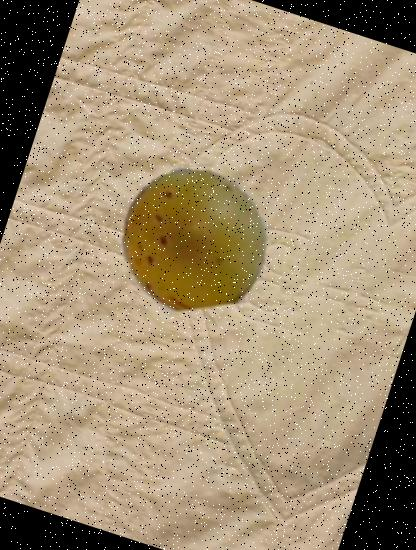Grape: (102, 148, 286, 331)
